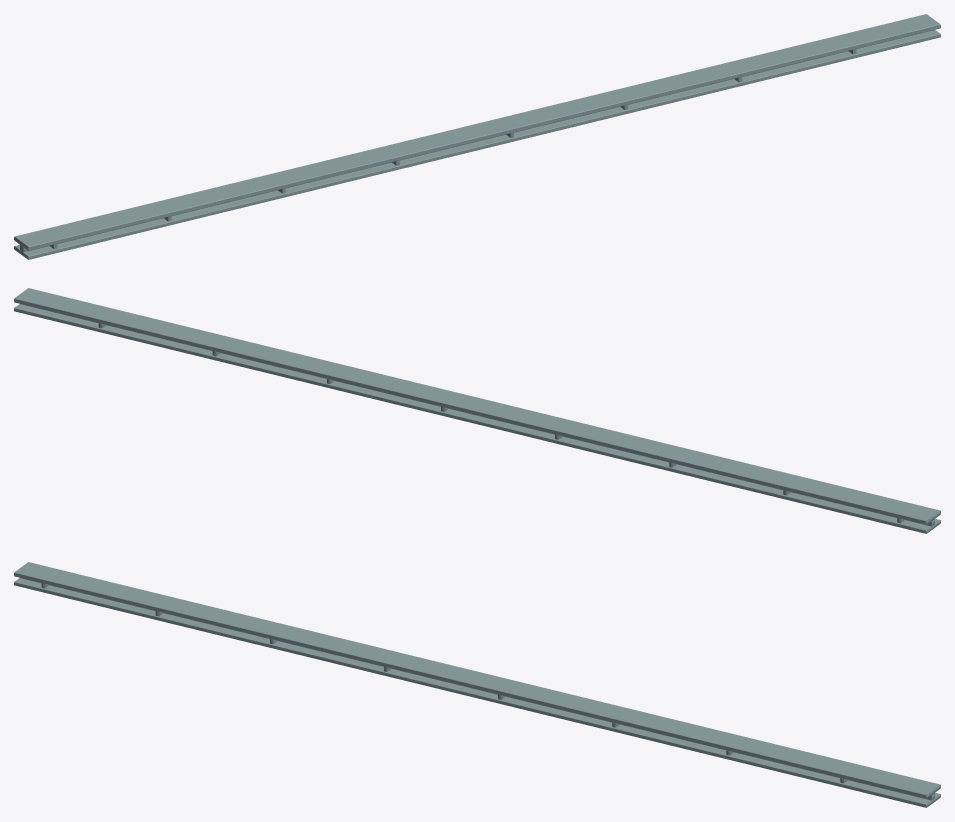
The model's file is RoadPlan_DeckStructure_L16_Girder_-1.glb.
3 views of the same model, one above another, from view 1: azimuth 30°, elevation 25°; view 2: azimuth 150°, elevation 25°; view 3: azimuth 330°, elevation 25° (orthographic).
Parts seen in each view (by area): view 1: RoadPlan_DeckStructure_L16_Girder_-1; view 2: RoadPlan_DeckStructure_L16_Girder_-1; view 3: RoadPlan_DeckStructure_L16_Girder_-1.
Boxes of the visible parts, bbox=[...] form: RoadPlan_DeckStructure_L16_Girder_-1: bbox=[14, 14, 940, 259]; RoadPlan_DeckStructure_L16_Girder_-1: bbox=[14, 288, 940, 533]; RoadPlan_DeckStructure_L16_Girder_-1: bbox=[14, 562, 940, 807].
Bounding box in the file's own units: 16 × 0.22 × 0.44.
